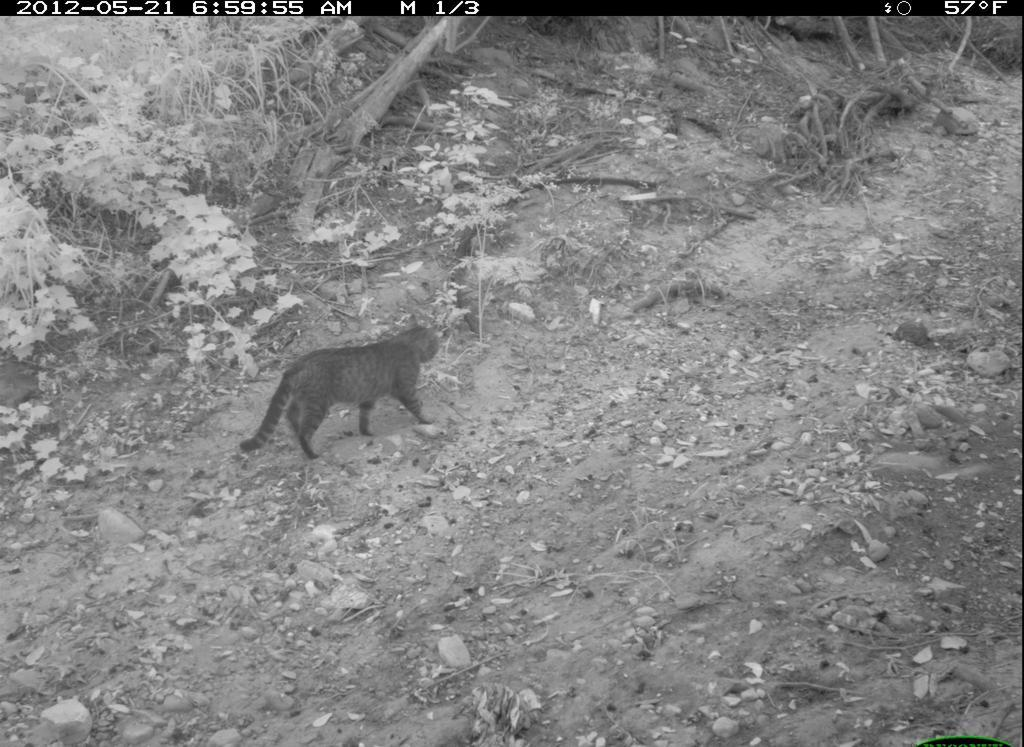cat: (240, 326, 442, 461)
